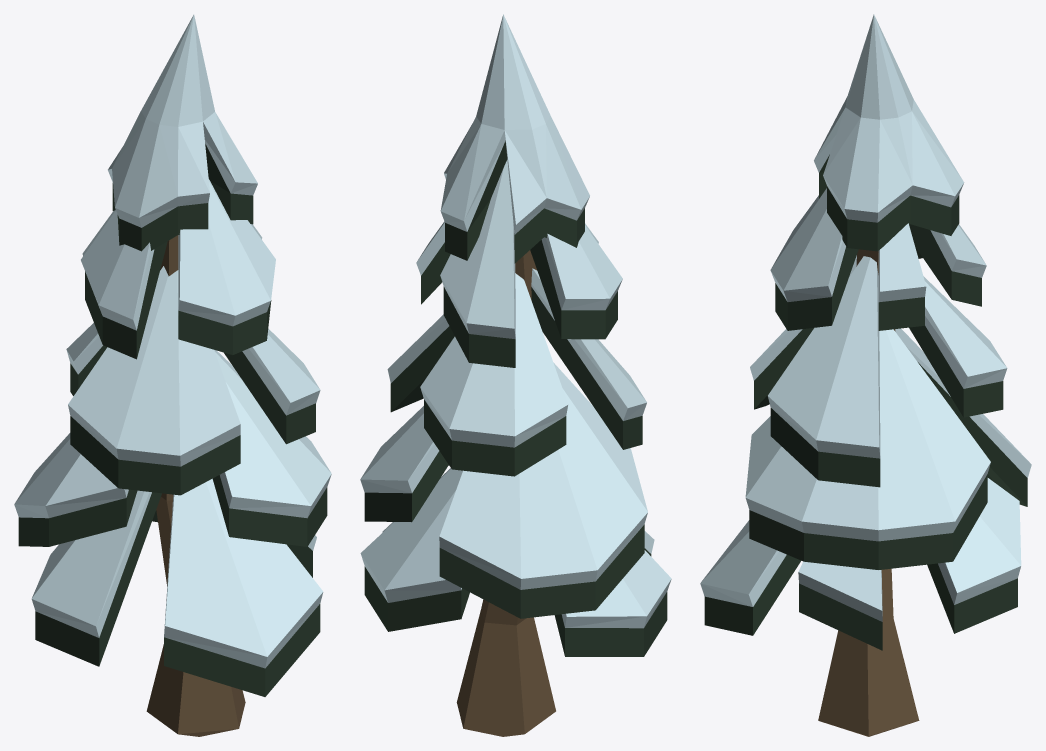
Rendered from SM_Env_Tree_Pine_02_Snow.fbx.
3 views of the same model, side by side, from view 1: azimuth 30°, elevation 25°; view 2: azimuth 150°, elevation 25°; view 3: azimuth 270°, elevation 25° (orthographic).
Parts seen in each view (by area): view 1: SM_Env_Tree_Pine_02_Snow; view 2: SM_Env_Tree_Pine_02_Snow; view 3: SM_Env_Tree_Pine_02_Snow.
Part boxes in pixels (x1,y1,x2,y2): SM_Env_Tree_Pine_02_Snow: (14, 14, 331, 736); SM_Env_Tree_Pine_02_Snow: (360, 14, 671, 736); SM_Env_Tree_Pine_02_Snow: (700, 14, 1031, 736).
Size of the model in its own units: 143 by 362 by 151.
